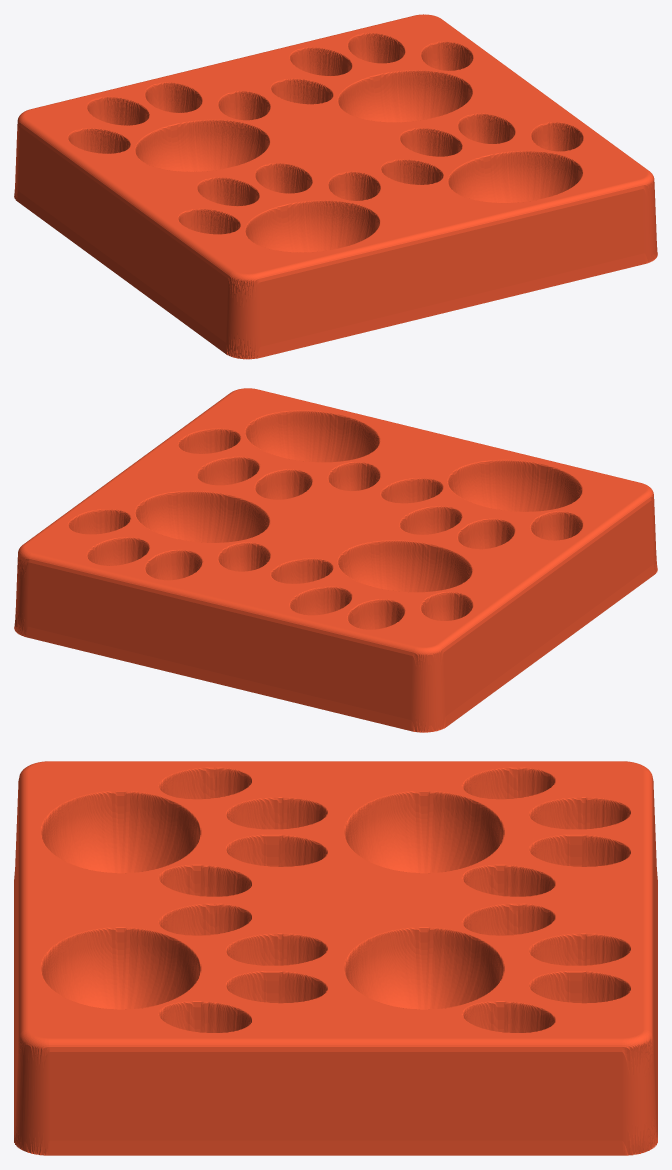
Rendered from mold.glb.
The picture shows the model from 3 angles, top to bottom: view 1: azimuth 30°, elevation 25°; view 2: azimuth 150°, elevation 25°; view 3: azimuth 270°, elevation 25°; orthographic projection. The views are drawn at different scales.
Parts seen in each view (by area): view 1: geometry_0; view 2: geometry_0; view 3: geometry_0.
Part boxes in pixels (x1,y1,x2,y2): geometry_0: (14, 14, 657, 359); geometry_0: (14, 388, 657, 732); geometry_0: (14, 761, 657, 1155).
Size of the model in its own units: 0.1721 by 0.031 by 0.1625.
